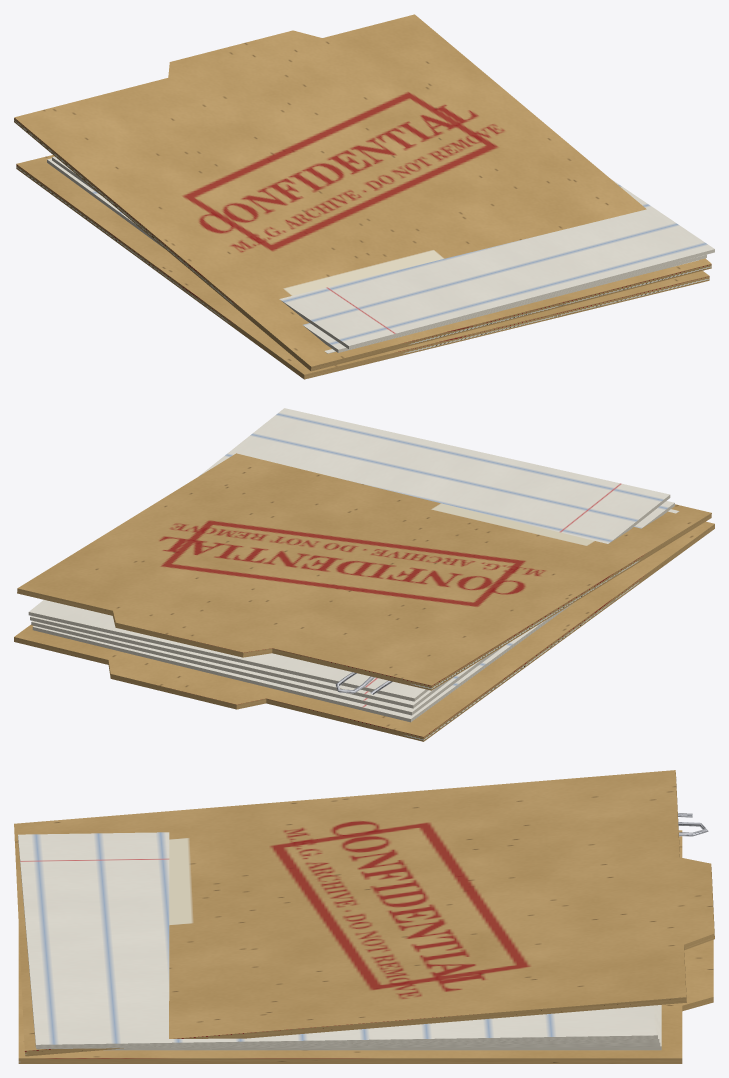
Rendered from megfolder.obj.
3 views of the same model, one above another, from view 1: azimuth 30°, elevation 25°; view 2: azimuth 150°, elevation 25°; view 3: azimuth 270°, elevation 25° (orthographic). The views are drawn at different scales.
Visible parts, largest first — view 1: megfolder_0_surface; view 2: megfolder_0_surface; view 3: megfolder_0_surface.
Part boxes in pixels (left/top/right/bottom): megfolder_0_surface: left=14, top=14, right=714, bottom=379; megfolder_0_surface: left=14, top=408, right=714, bottom=741; megfolder_0_surface: left=14, top=770, right=714, bottom=1063.
Bounding box in the file's own units: 0.2715 × 0.0351 × 0.3379.
2 materials, 2 textured.
